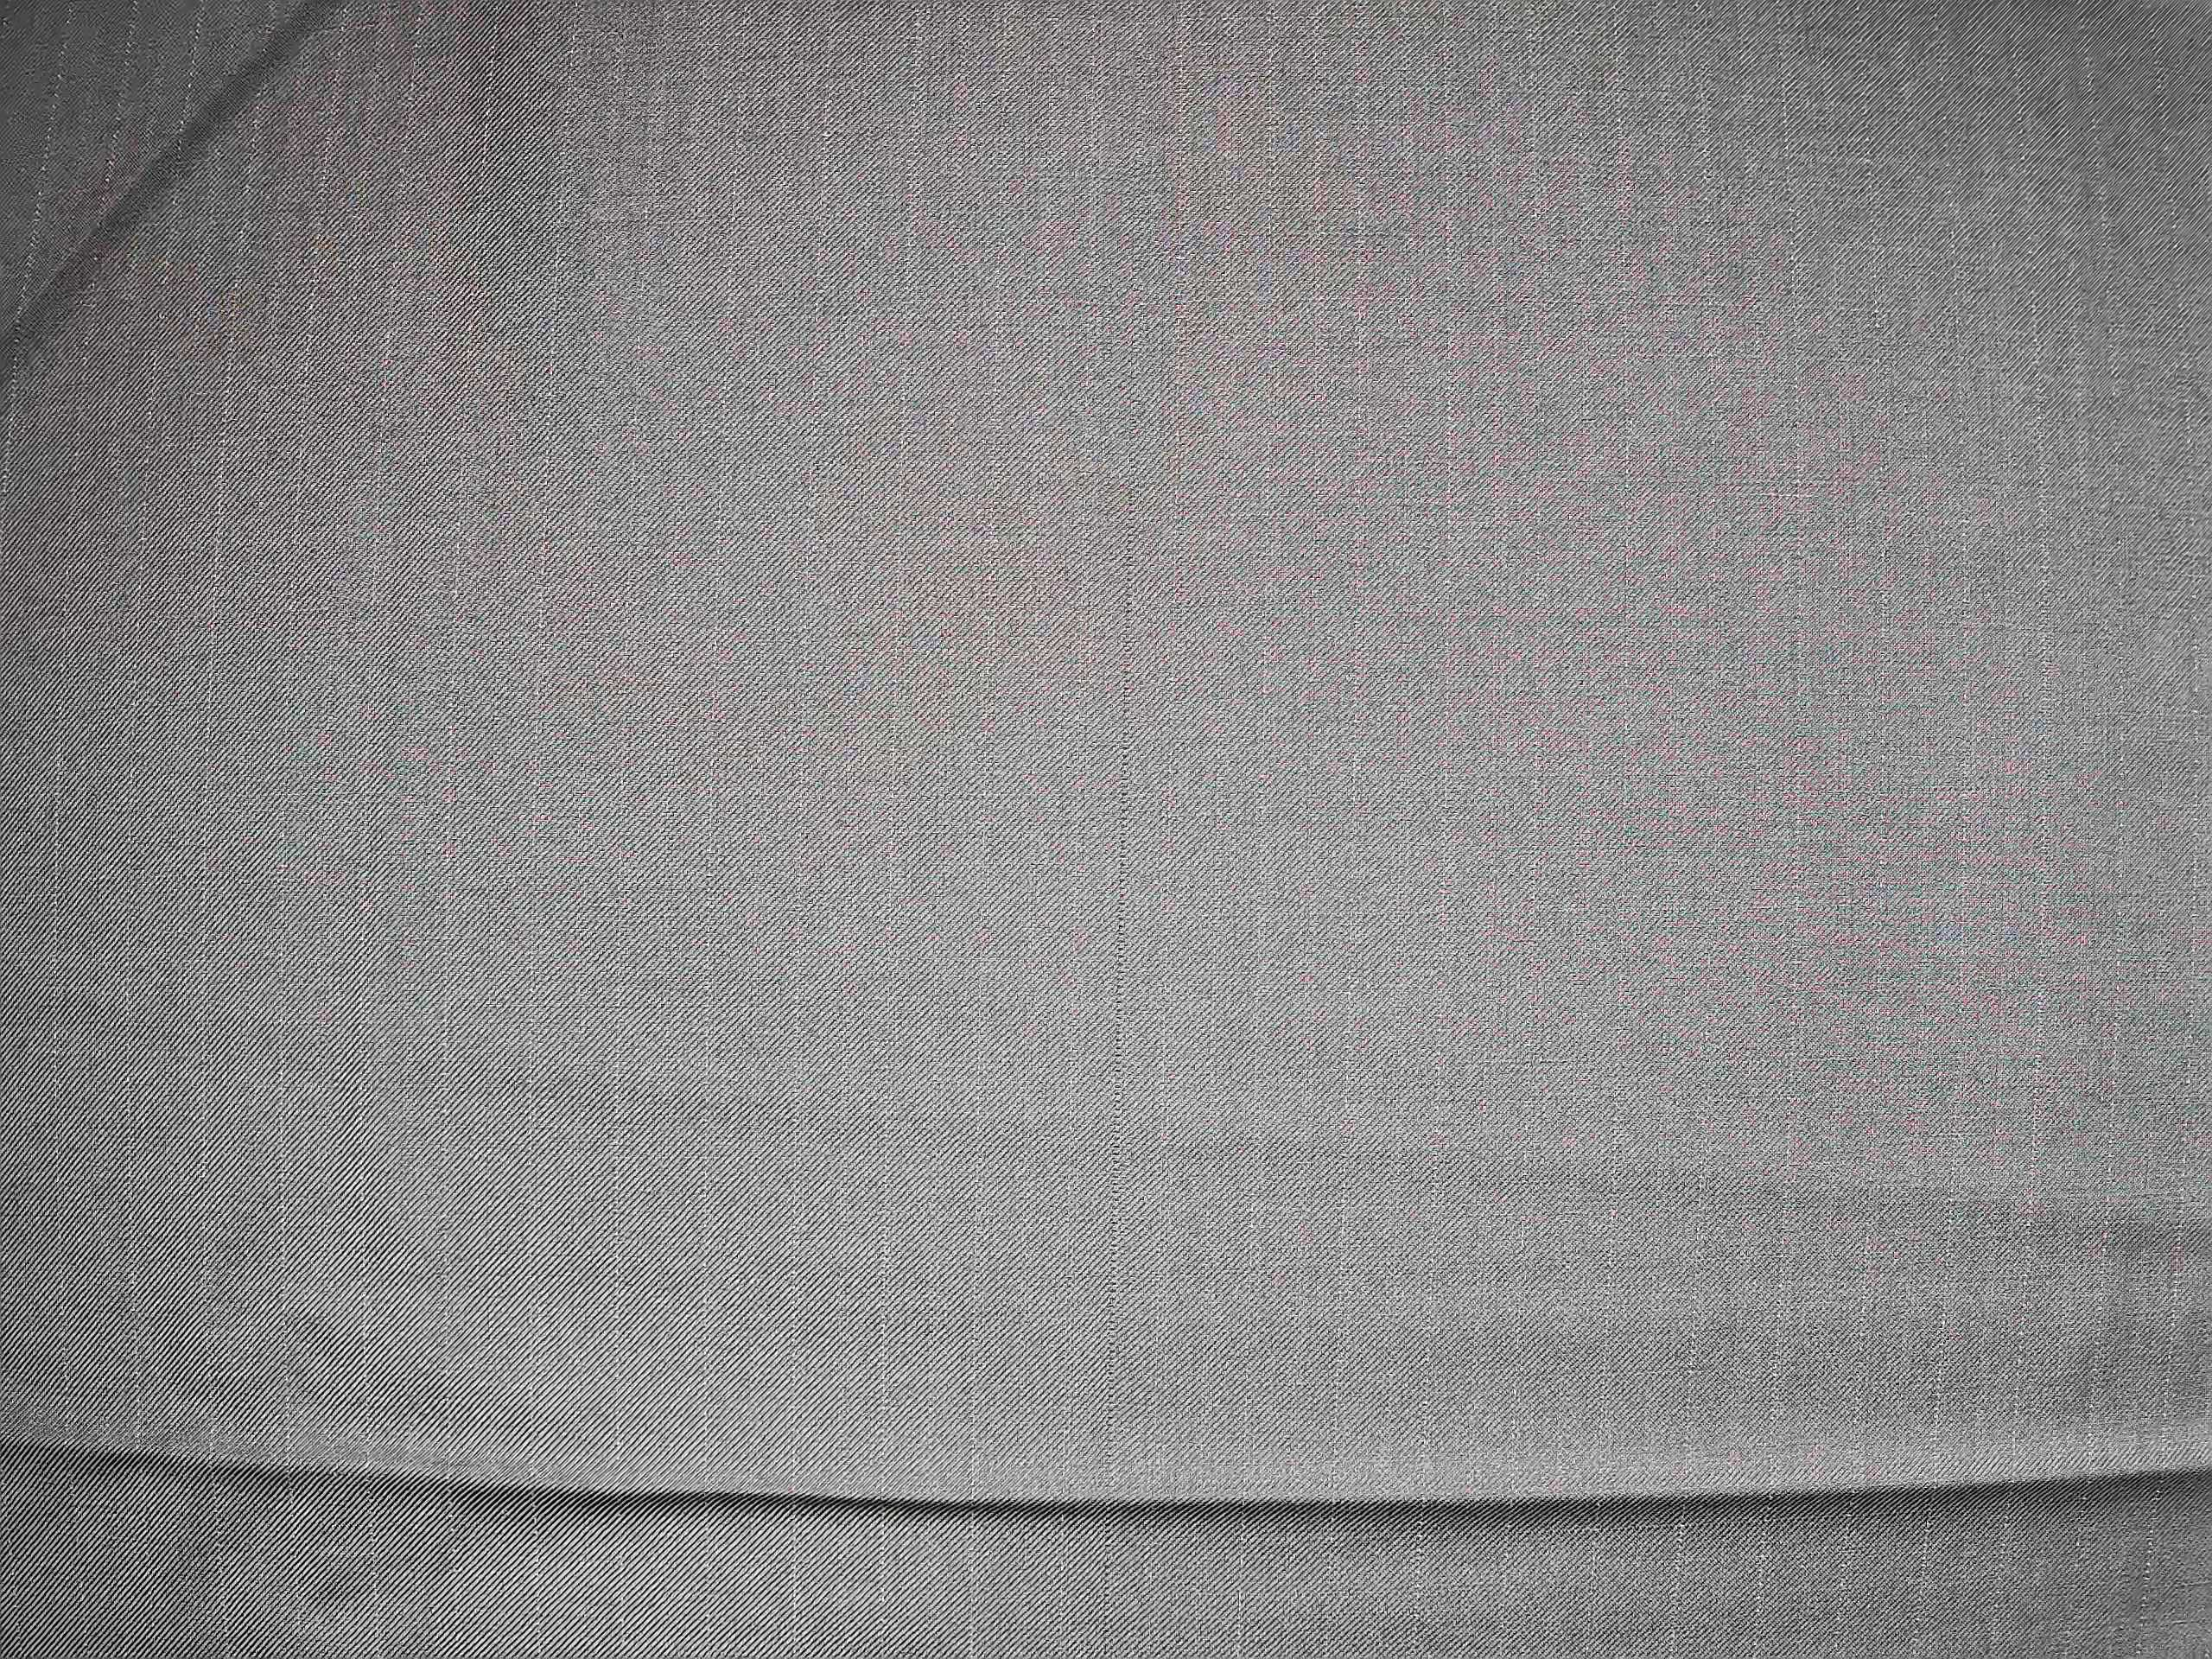hanging-warp: (1090, 298, 1148, 1516)
